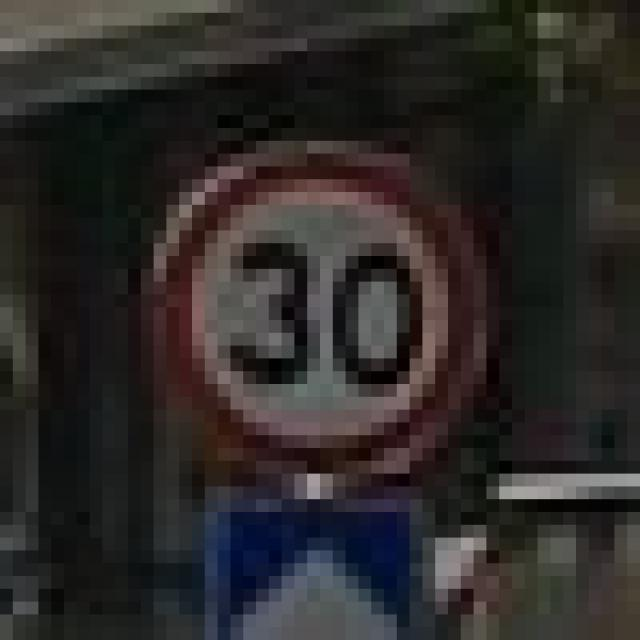SPEED_LIMIT_30: (116, 116, 487, 487)
